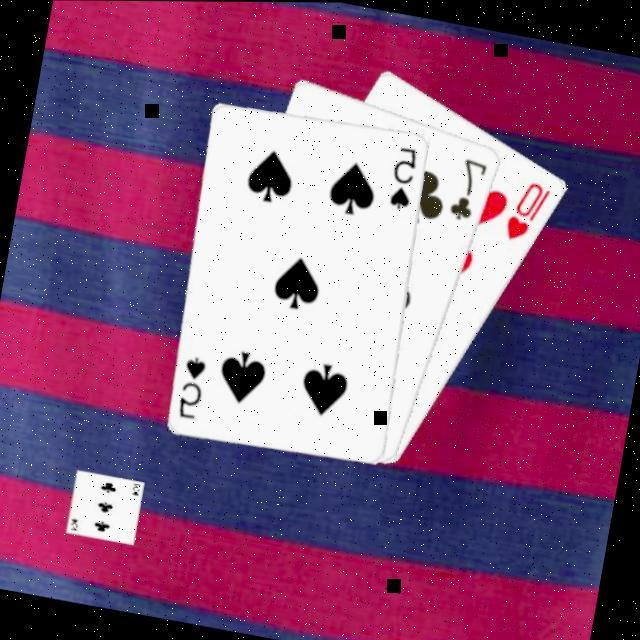10H: (498, 173, 554, 248)
5S: (382, 141, 421, 213), (171, 350, 209, 422)
7C: (443, 153, 490, 226)
